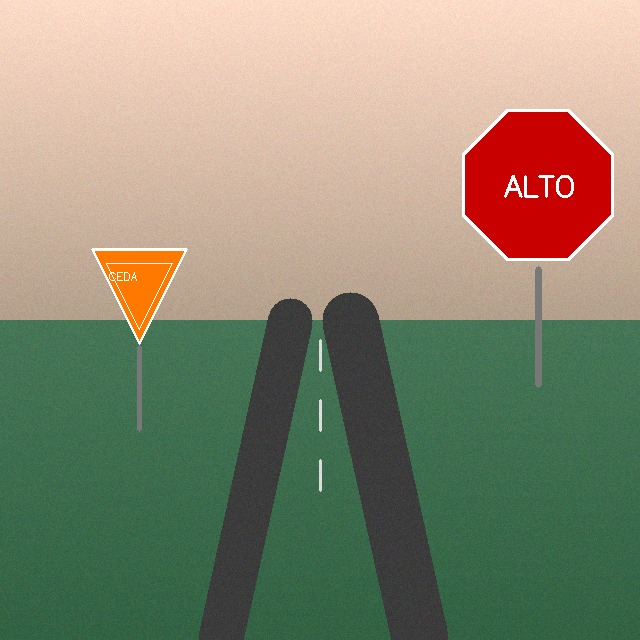alto: (455, 102, 622, 269)
ceda_el_paso: (88, 245, 190, 347)
